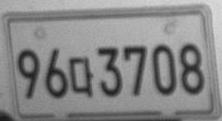0: (151, 43, 177, 96)
3: (97, 46, 123, 96)
6: (45, 48, 68, 98)
7: (123, 45, 148, 96)
8: (178, 42, 205, 95)
9: (16, 48, 41, 99)
다: (69, 56, 95, 97)
